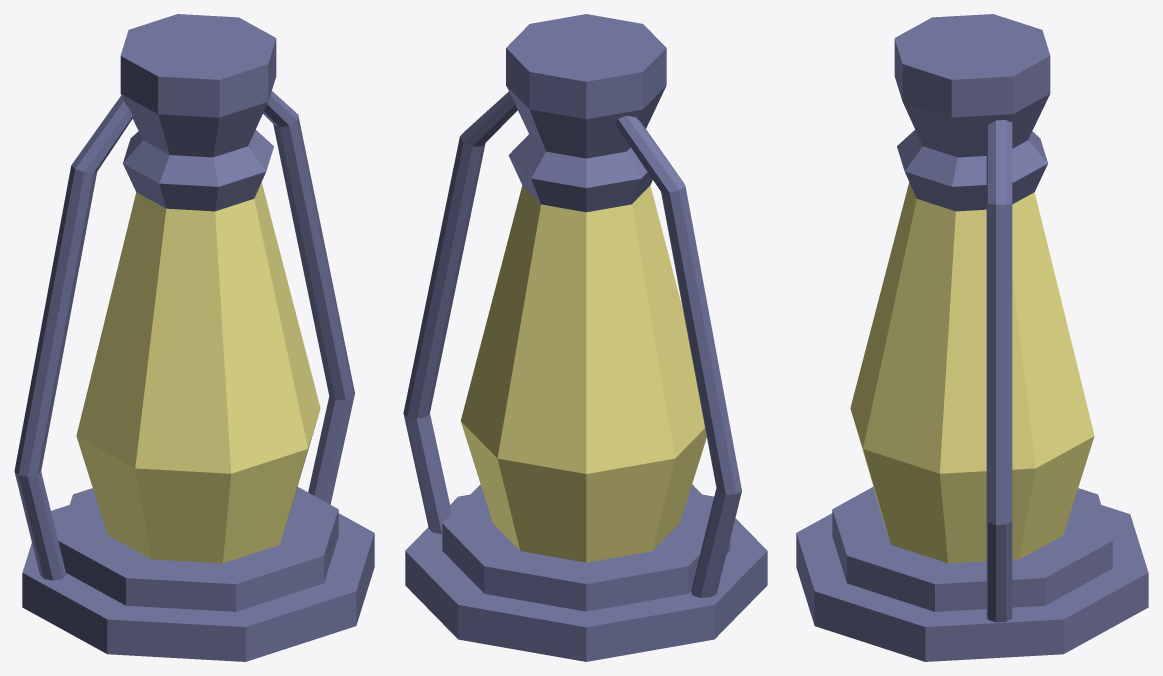
The model's file is Lump_2.fbx.
3 renders of one model, left to right at view 1: azimuth 30°, elevation 25°; view 2: azimuth 150°, elevation 25°; view 3: azimuth 270°, elevation 25°, orthographic.
Visible parts, largest first — view 1: Lump_2; view 2: Lump_2; view 3: Lump_2.
Boxes of the visible parts, x1=… form: Lump_2: x1=14, y1=14, x2=374, y2=661; Lump_2: x1=403, y1=14, x2=767, y2=661; Lump_2: x1=796, y1=14, x2=1148, y2=661.
Bounding box in the file's own units: 20.23 × 18.32 × 31.04.
